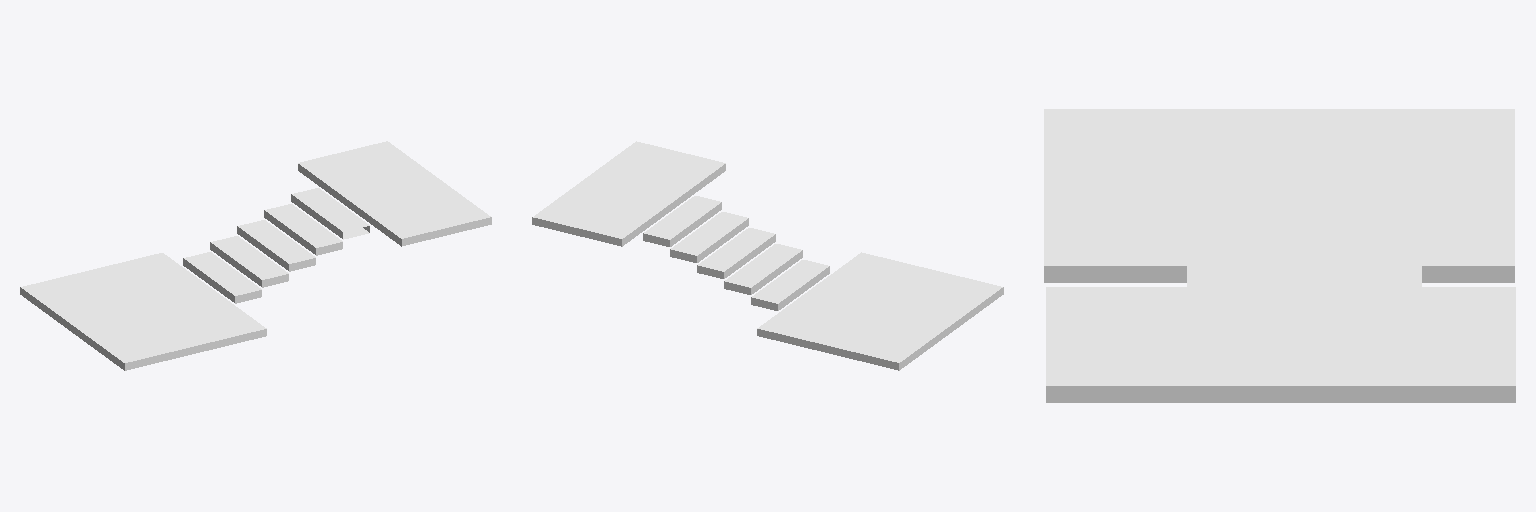
The robot description file, URDF, robot "stairs":
<robot name="stairs">
  <link name="base_link">
    <visual>
      <origin xyz="0 0 0" rpy="0 0 0" />
      <geometry>
        <mesh filename="package://hpp_environments/meshes/multicontact/stairs.stl"/>
      </geometry>
      <material name="white">
        <color rgba="1 1 1 1"/>
      </material>
    </visual>
    <collision>
      <origin xyz="0 0 0" rpy="0 0 0" />
      <geometry>
        <mesh filename="package://hpp_environments/meshes/multicontact/stairs.stl"/>
      </geometry>
    </collision>
  </link>
</robot>

--- Facts derived from the render (not from the file) ---
Views: 3 orthographic renders of the robot side by side, from view 1: azimuth 30°, elevation 25°; view 2: azimuth 150°, elevation 25°; view 3: azimuth 270°, elevation 25°.
Robot: stairs — 1 links, 0 joints (none); root link base_link; default pose: every joint at zero.
Links seen in each view (by area): view 1: base_link; view 2: base_link; view 3: base_link.
Boxes of the visible links, x1=… form: base_link: x1=20, y1=141, x2=491, y2=370; base_link: x1=532, y1=141, x2=1003, y2=370; base_link: x1=1044, y1=109, x2=1515, y2=402.
Bounding box of the posed robot: 4.08 × 2.01 × 0.68 m (x, y, z).
Meshes: 1 distinct files referenced, 1 mesh visuals loaded (1 binary STL).